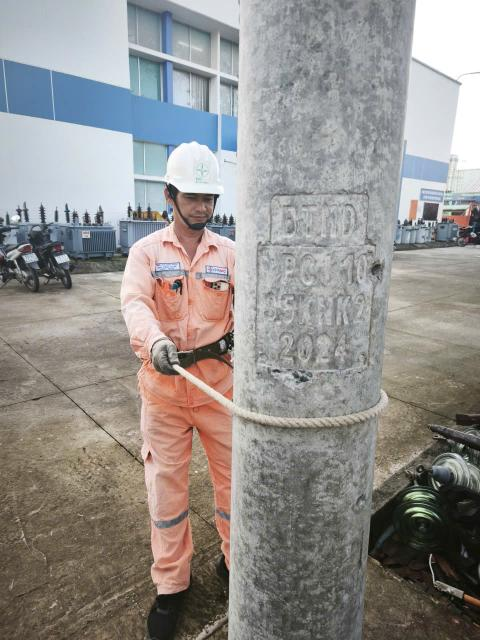gloves: (131, 327, 182, 387)
harness: (107, 336, 246, 370)
helmet: (153, 130, 247, 205)
shoes: (130, 562, 209, 640), (216, 542, 264, 598)
